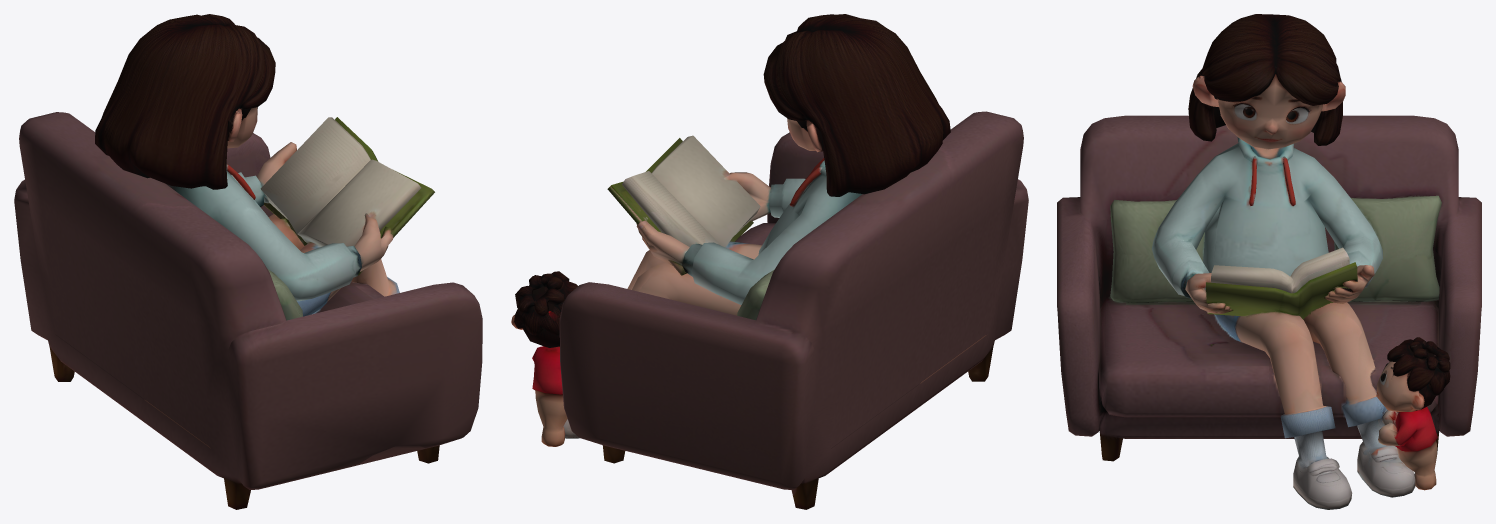
File: tile17.glb
3 renders of one model, left to right at view 1: azimuth 30°, elevation 25°; view 2: azimuth 150°, elevation 25°; view 3: azimuth 270°, elevation 25°, orthographic. The views are drawn at different scales.
Parts seen in each view (by area): view 1: tripo_node_136031b2-68d4-4908-a1e0-5c9205a1448d; view 2: tripo_node_136031b2-68d4-4908-a1e0-5c9205a1448d; view 3: tripo_node_136031b2-68d4-4908-a1e0-5c9205a1448d.
Part boxes in pixels (x1,y1,x2,y2): tripo_node_136031b2-68d4-4908-a1e0-5c9205a1448d: [14, 14, 482, 509]; tripo_node_136031b2-68d4-4908-a1e0-5c9205a1448d: [511, 14, 1028, 509]; tripo_node_136031b2-68d4-4908-a1e0-5c9205a1448d: [1057, 14, 1481, 509].
Size of the model in its own units: 0.8652 by 0.9668 by 0.998.
1 material, 1 textured.
